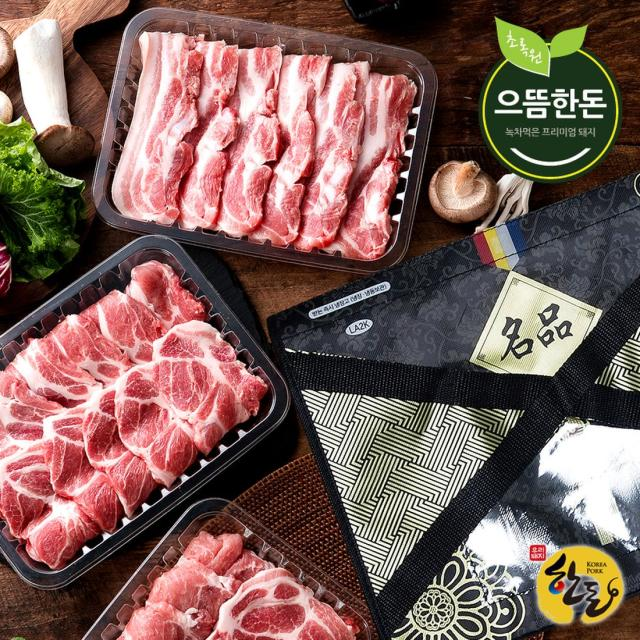pork: (79, 0, 455, 267), (0, 258, 279, 520), (72, 522, 367, 640)
